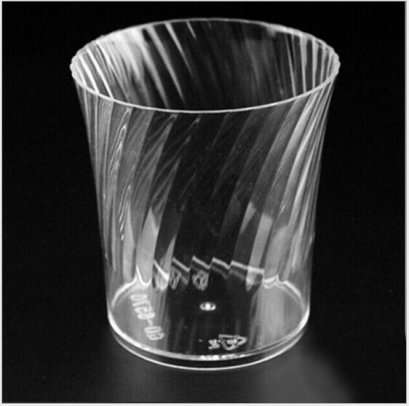plastic_glass: (53, 15, 351, 376)
